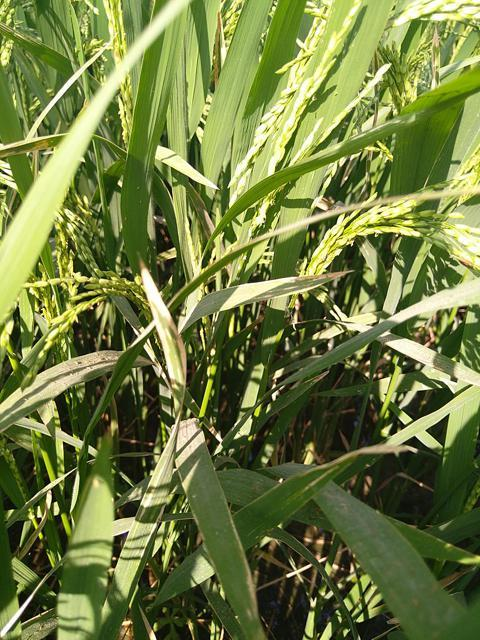Leaf Blight: (166, 185, 479, 310), (175, 419, 266, 639), (235, 444, 418, 536), (136, 254, 186, 539), (0, 350, 122, 432), (189, 272, 355, 326), (376, 336, 479, 387), (111, 317, 158, 378), (312, 324, 342, 340), (133, 355, 157, 374), (338, 321, 372, 333), (294, 319, 329, 325)
